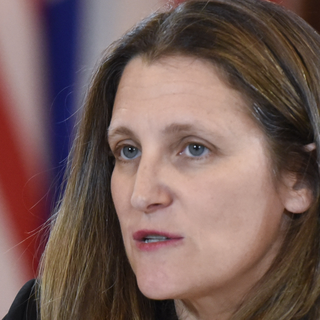eye: (168, 132, 221, 166), (106, 135, 147, 165)
